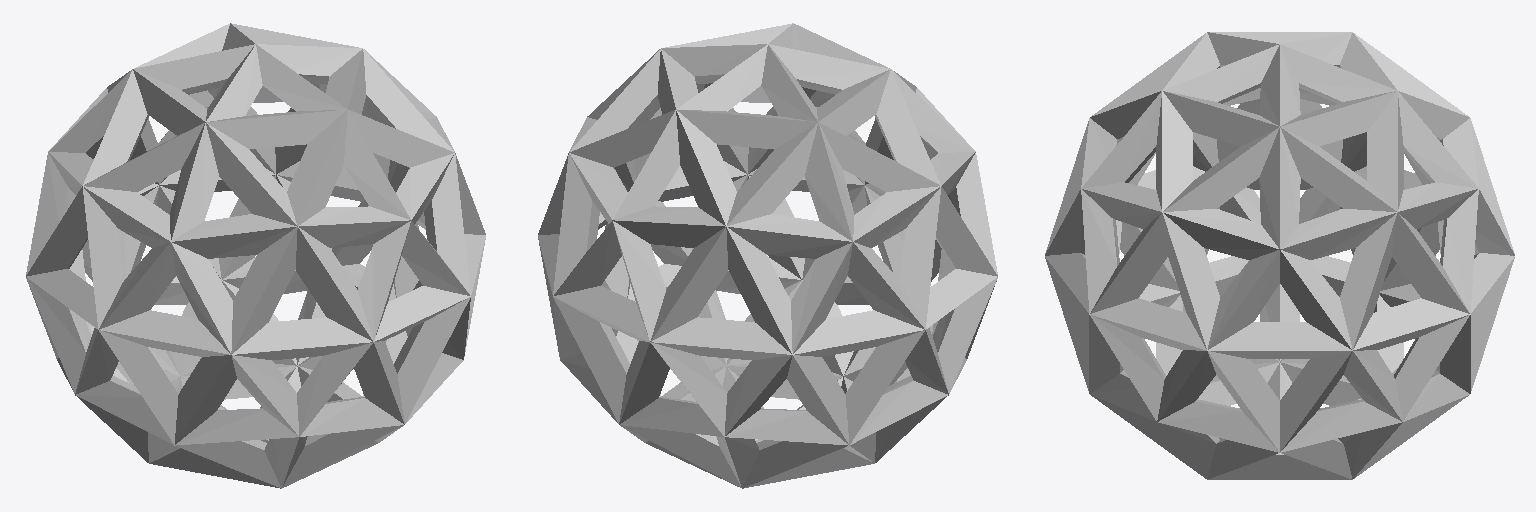
The model's file is icoModel.obj.
The picture shows the model from 3 angles: view 1: azimuth 30°, elevation 25°; view 2: azimuth 150°, elevation 25°; view 3: azimuth 270°, elevation 25°; orthographic projection.
Parts seen in each view (by area): view 1: Icosphere; view 2: Icosphere; view 3: Icosphere.
Boxes of the visible parts, x1=… form: Icosphere: x1=26, y1=23, x2=485, y2=488; Icosphere: x1=538, y1=23, x2=997, y2=488; Icosphere: x1=1045, y1=32, x2=1514, y2=479.
Size of the model in its own units: 2.09 by 2.18 by 2.2.